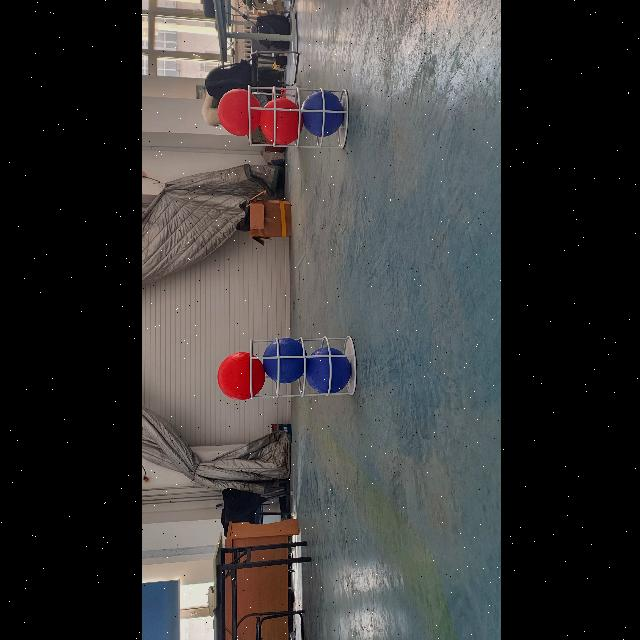B: (302, 347, 350, 395), (260, 338, 306, 384), (302, 92, 342, 138)
R: (216, 353, 266, 401), (216, 90, 256, 138), (258, 98, 298, 146)
S: (245, 334, 357, 404), (243, 83, 353, 151)
